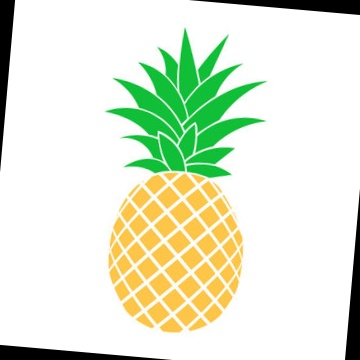Pineapple: (106, 23, 267, 332)
